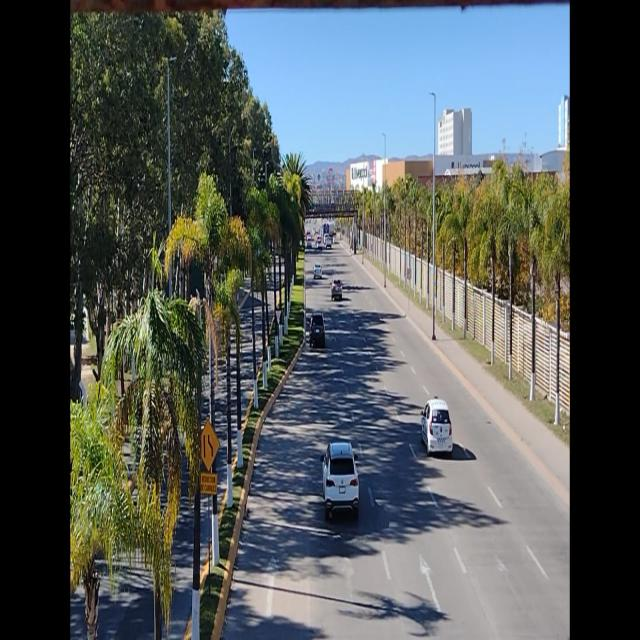Auto: (323, 441, 360, 520), (421, 398, 454, 454), (311, 314, 325, 346), (330, 279, 343, 304)
